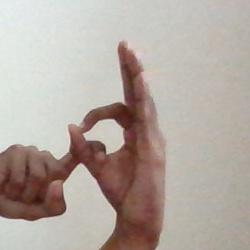Q: (2, 6, 228, 250)
